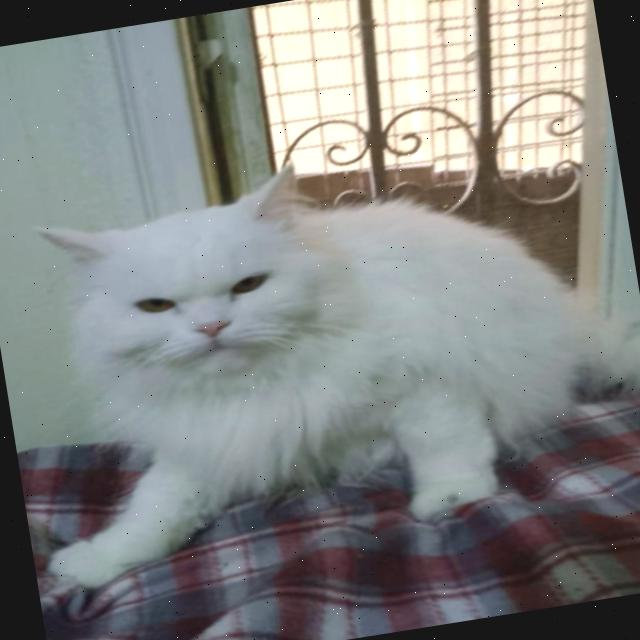persian_cat: (15, 148, 372, 428)
